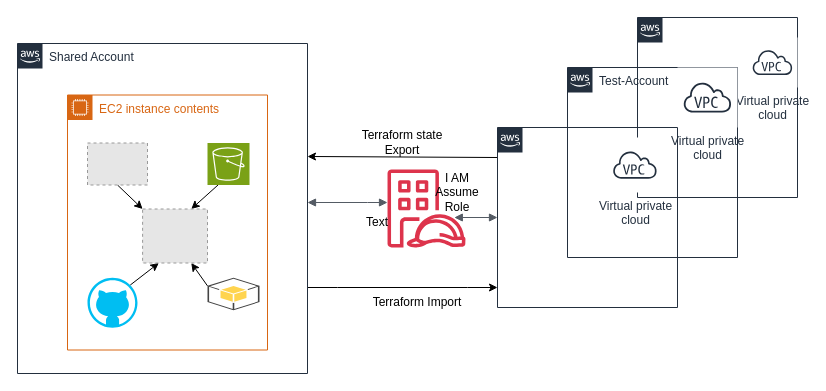
Some shapes in this 826 by 391 pixel diagram are drawn without their labels. Grey dashed boxes stand in for pictures. The shapes that lost their labels are listed below. From the top down, each one's box as (x1, y1, x2, y2) in pixels, then its label:
(636, 16, 798, 198): Prod-Account
(496, 126, 678, 308): Dev-Account
(206, 277, 260, 310): Python (boto)
